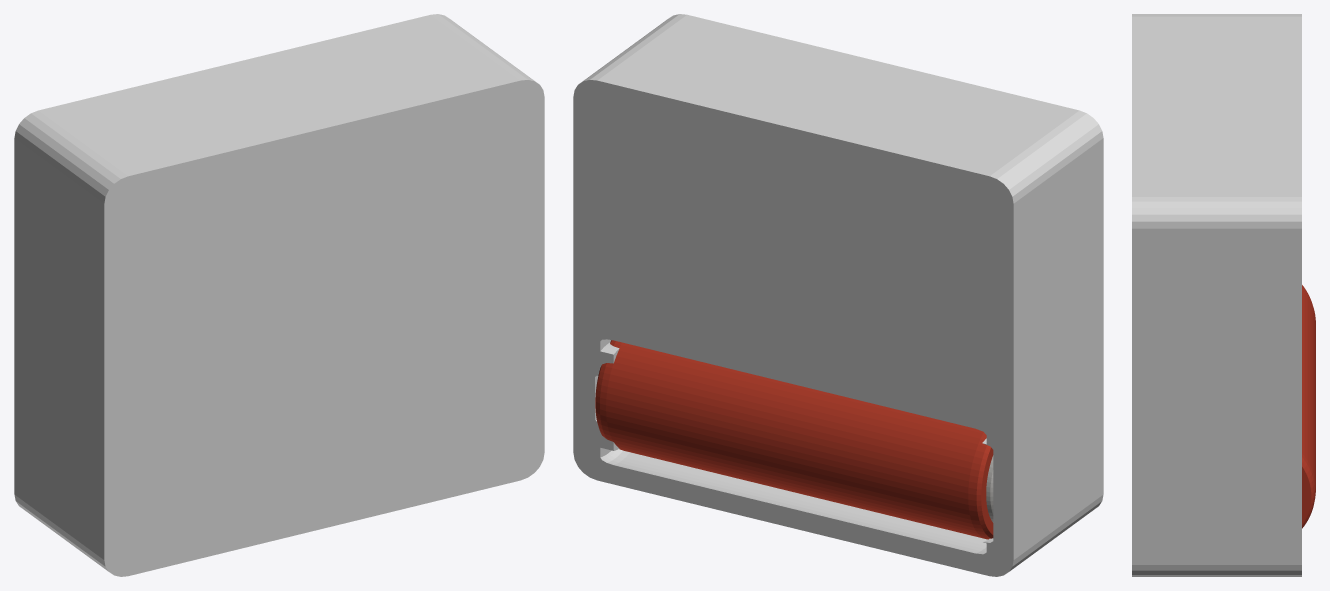
The model's file is batterycase.fbx.
3 views of the same model, side by side, from view 1: azimuth 30°, elevation 25°; view 2: azimuth 150°, elevation 25°; view 3: azimuth 270°, elevation 25° (orthographic). The views are drawn at different scales.
Visible parts, largest first — view 1: Cube; view 2: Cube, TEMPORARY BACKUP; view 3: Cube, TEMPORARY BACKUP.
Boxes of the visible parts, x1,y1,x2,y2 form: Cube: (14, 14, 544, 576); Cube: (573, 14, 1103, 576); TEMPORARY BACKUP: (595, 340, 993, 539); Cube: (1132, 14, 1301, 576); TEMPORARY BACKUP: (1302, 285, 1315, 528).
Bounding box in the file's own units: 8.07 × 7 × 3.09.
